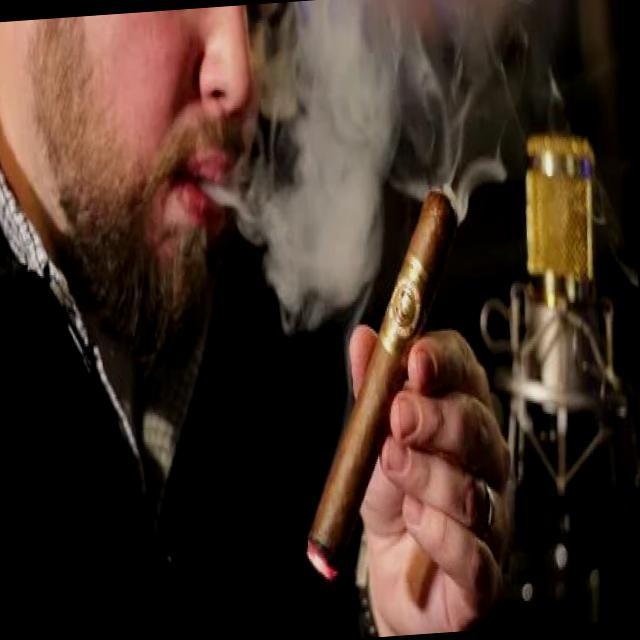smoke: (282, 179, 486, 582)
